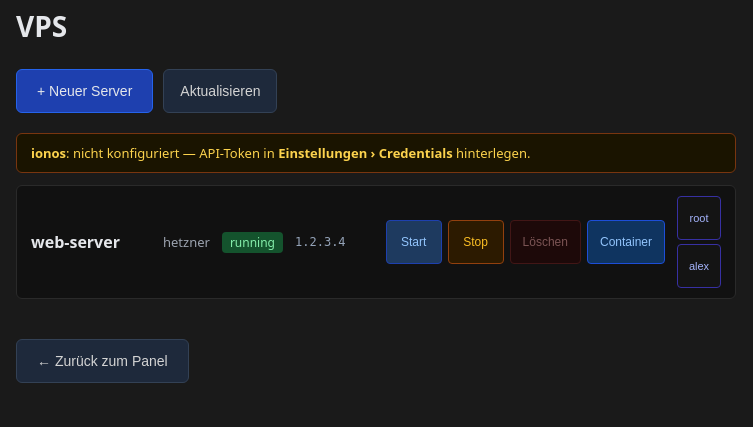
VpsView — AC10 (view-vps): 403-Behandlung › AC10 — 403 bei Start zeigt „keine Berechtigung"-Meldung
Click the button with aria-label "web-server starten".
click(414, 242)  # box [386, 220, 442, 264]
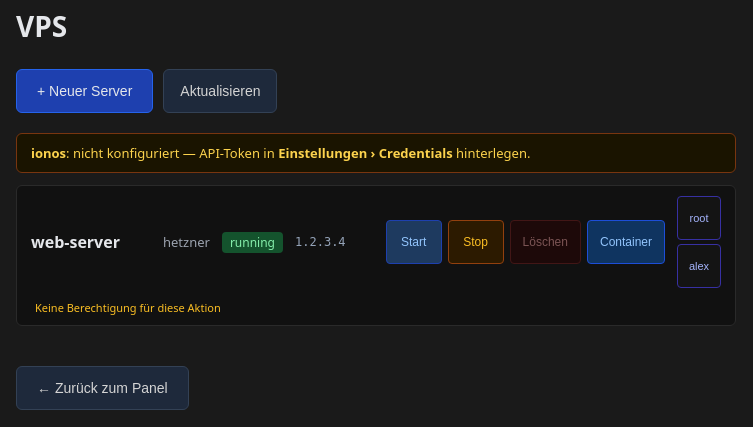
Check: the text "Keine Berechtigung für diese Aktion" is shown, box [35, 300, 221, 315]
